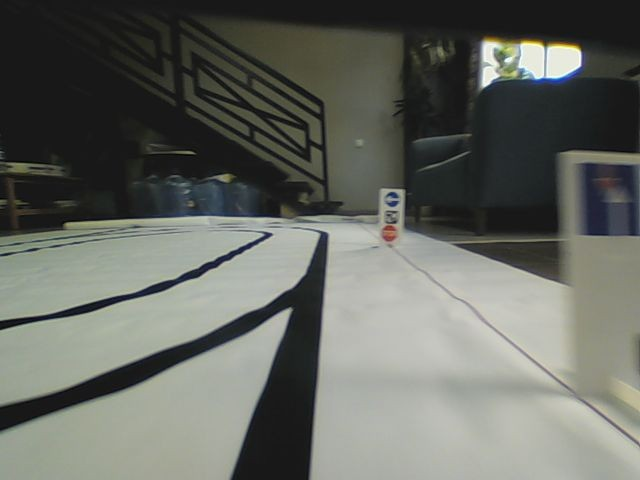priority_movement: (579, 158, 640, 240)
